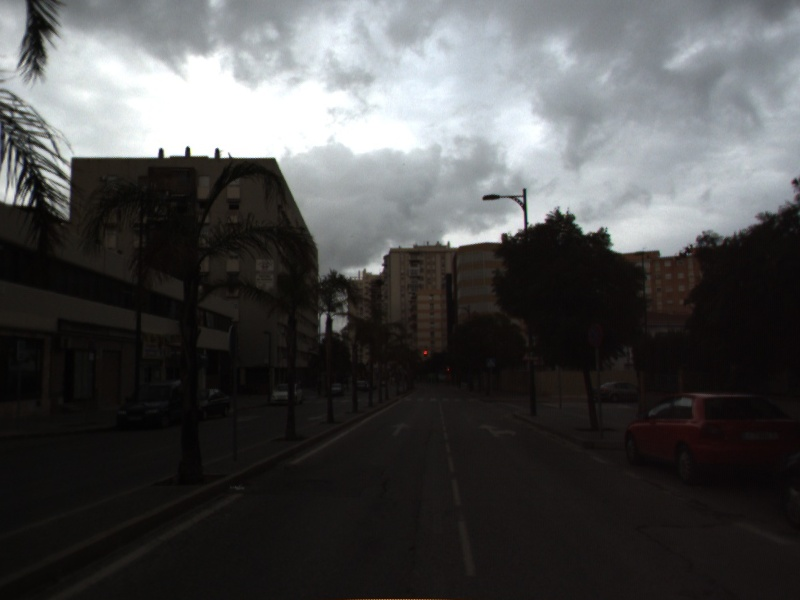STRAIGHT: (389, 420, 413, 438)
STRAIGHT_RIGHT: (476, 422, 518, 439)
